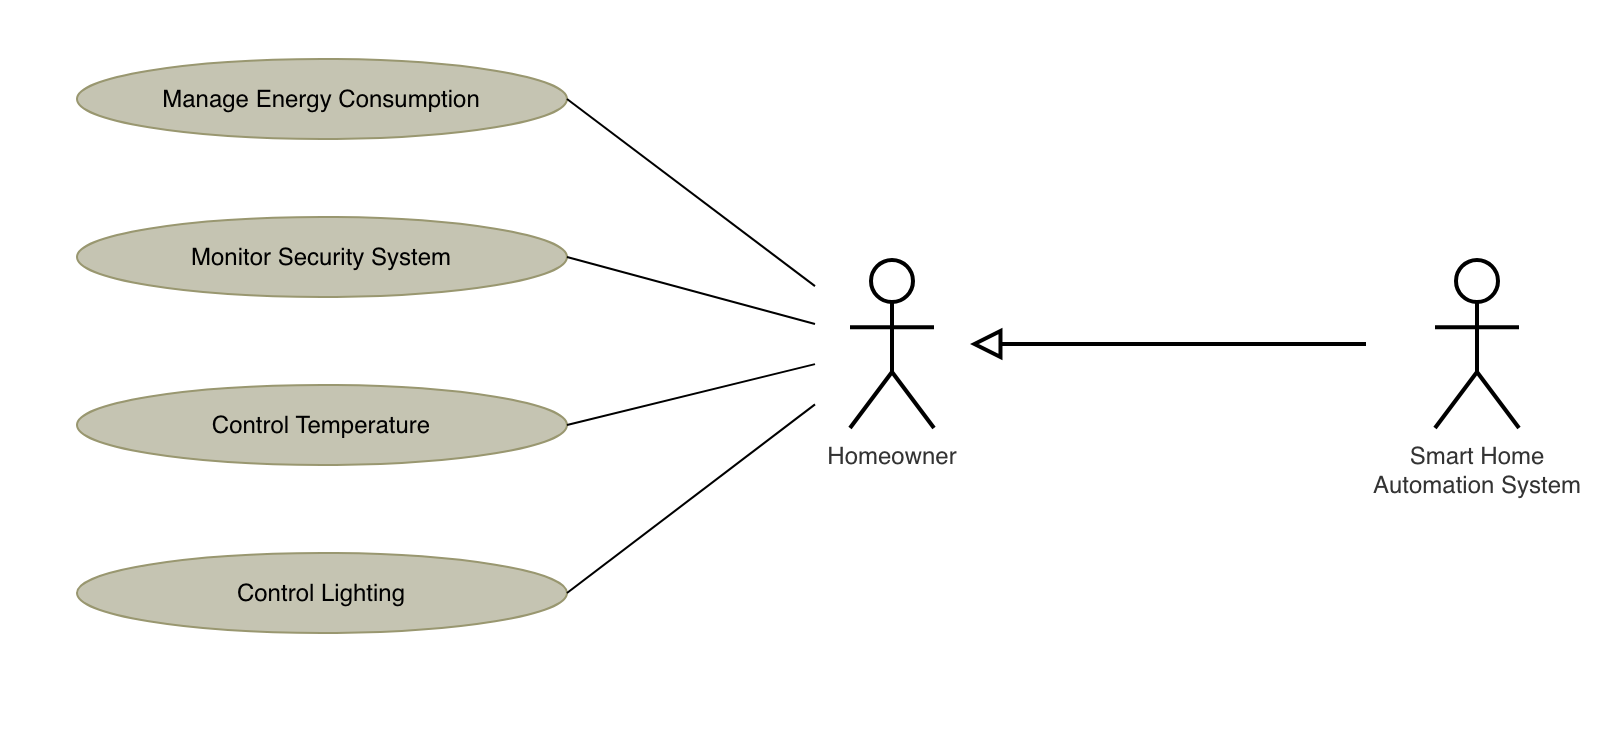actor: (838, 255, 942, 435), (1433, 255, 1526, 434)
association: (568, 400, 817, 592), (568, 100, 817, 289), (570, 256, 816, 326), (570, 360, 819, 426)
generalization: (968, 323, 1368, 363)
text: (1363, 444, 1590, 502), (148, 79, 484, 115), (200, 406, 448, 445), (181, 239, 451, 272), (217, 573, 420, 613), (824, 443, 956, 472)
use_case: (71, 549, 570, 638), (73, 381, 572, 469), (75, 58, 573, 145), (74, 213, 571, 301)
